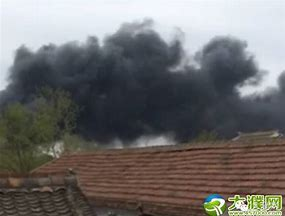smoke: (10, 19, 285, 143)
